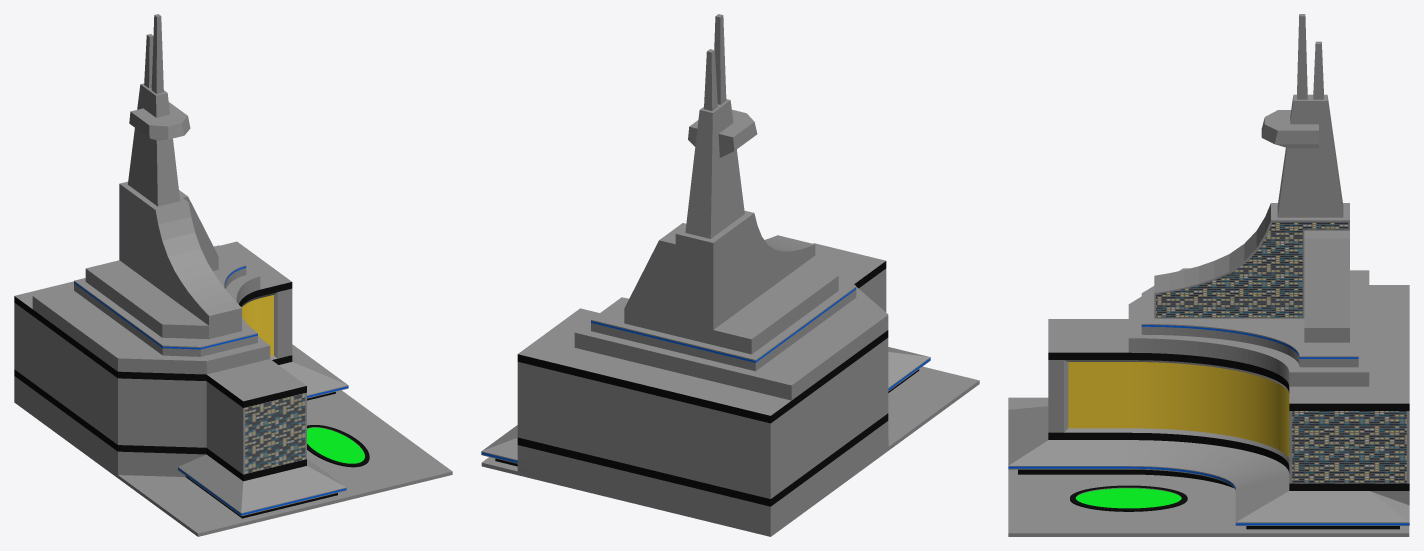
Rendered from SM_Building_ColonialHeadquarters.FBX.
The picture shows the model from 3 angles, left to right: view 1: azimuth 30°, elevation 25°; view 2: azimuth 150°, elevation 25°; view 3: azimuth 270°, elevation 25°; orthographic projection. The views are drawn at different scales.
Visible parts, largest first — view 1: Box002; view 2: Box002; view 3: Box002.
Boxes of the visible parts, bbox=[...] form: Box002: bbox=[14, 14, 452, 536]; Box002: bbox=[481, 14, 979, 536]; Box002: bbox=[1008, 14, 1409, 536].
Bounding box in the file's own units: 4000 × 6002 × 5001.
6 materials, 1 textured.
